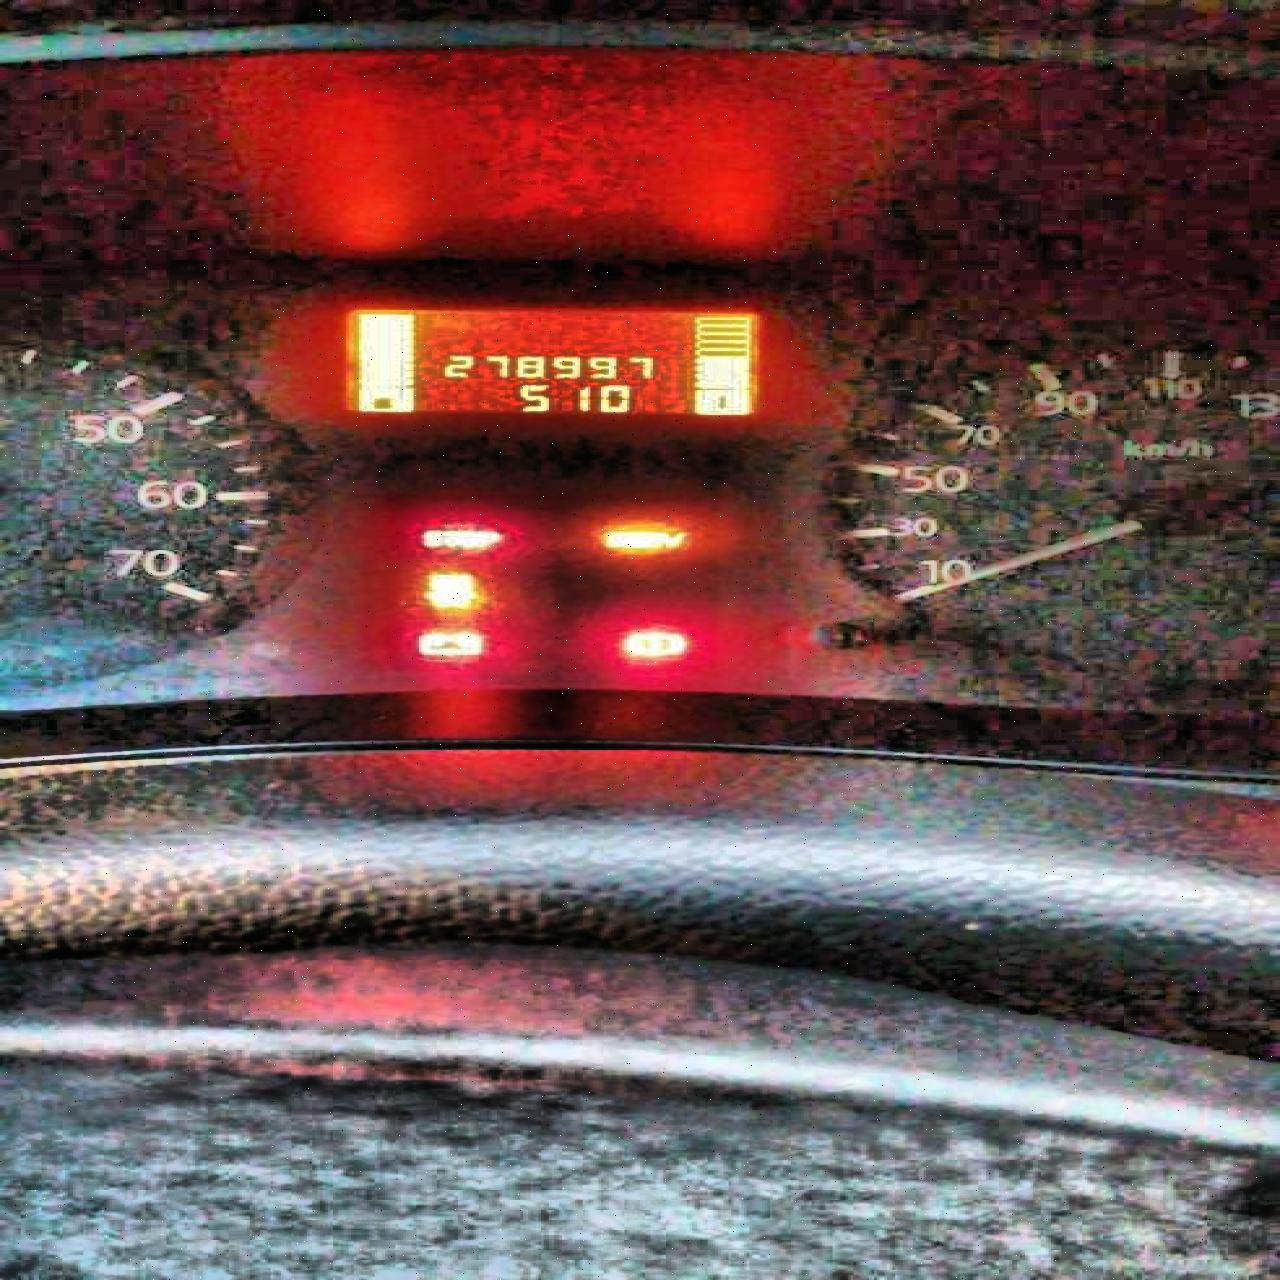0: (595, 383, 629, 413)
1: (572, 384, 587, 411)
2: (440, 354, 474, 377)
5: (515, 382, 549, 413)
7: (625, 356, 653, 379), (482, 354, 508, 376)
8: (512, 355, 544, 377)
9: (583, 356, 617, 379), (549, 355, 580, 377)
odometer: (346, 307, 762, 417)
